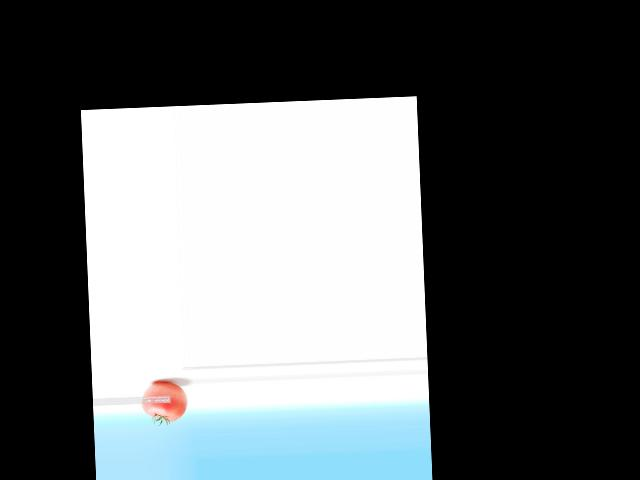tomato: (140, 381, 187, 422)
